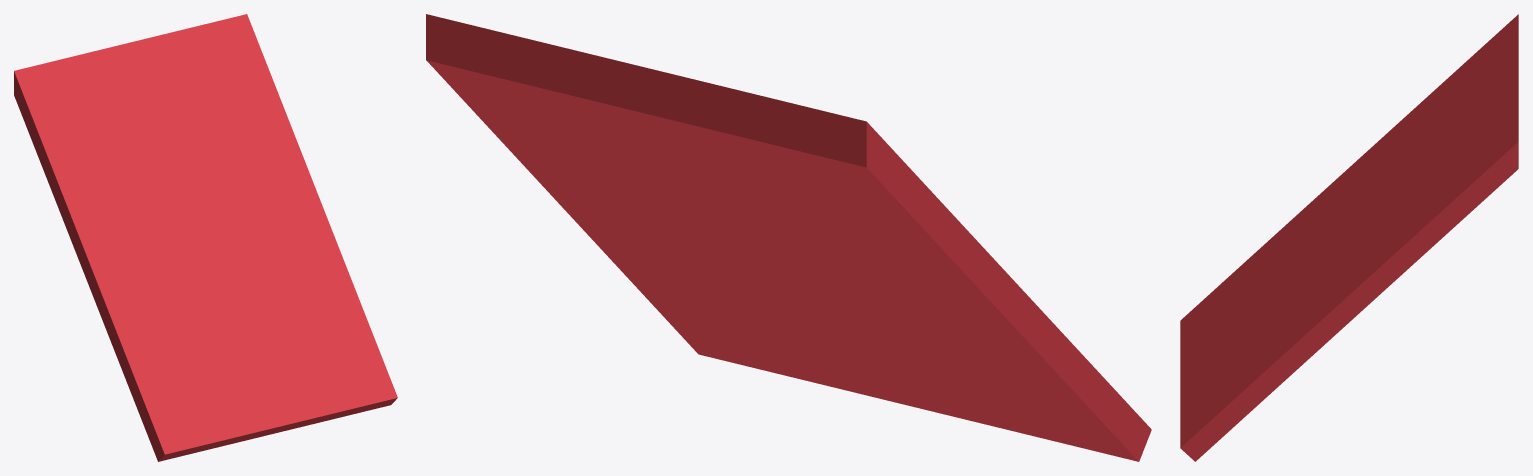
Rendered from roof_side.glb.
The picture shows the model from 3 angles, left to right: view 1: azimuth 30°, elevation 25°; view 2: azimuth 150°, elevation 25°; view 3: azimuth 270°, elevation 25°; orthographic projection. The views are drawn at different scales.
Parts seen in each view (by area): view 1: roof_side; view 2: roof_side; view 3: roof_side.
Part boxes in pixels (<box>): roof_side: <box>14,14,397,461</box>; roof_side: <box>426,14,1151,461</box>; roof_side: <box>1180,14,1518,461</box>.
Size of the model in its own units: 1 by 1.17 by 1.12.
